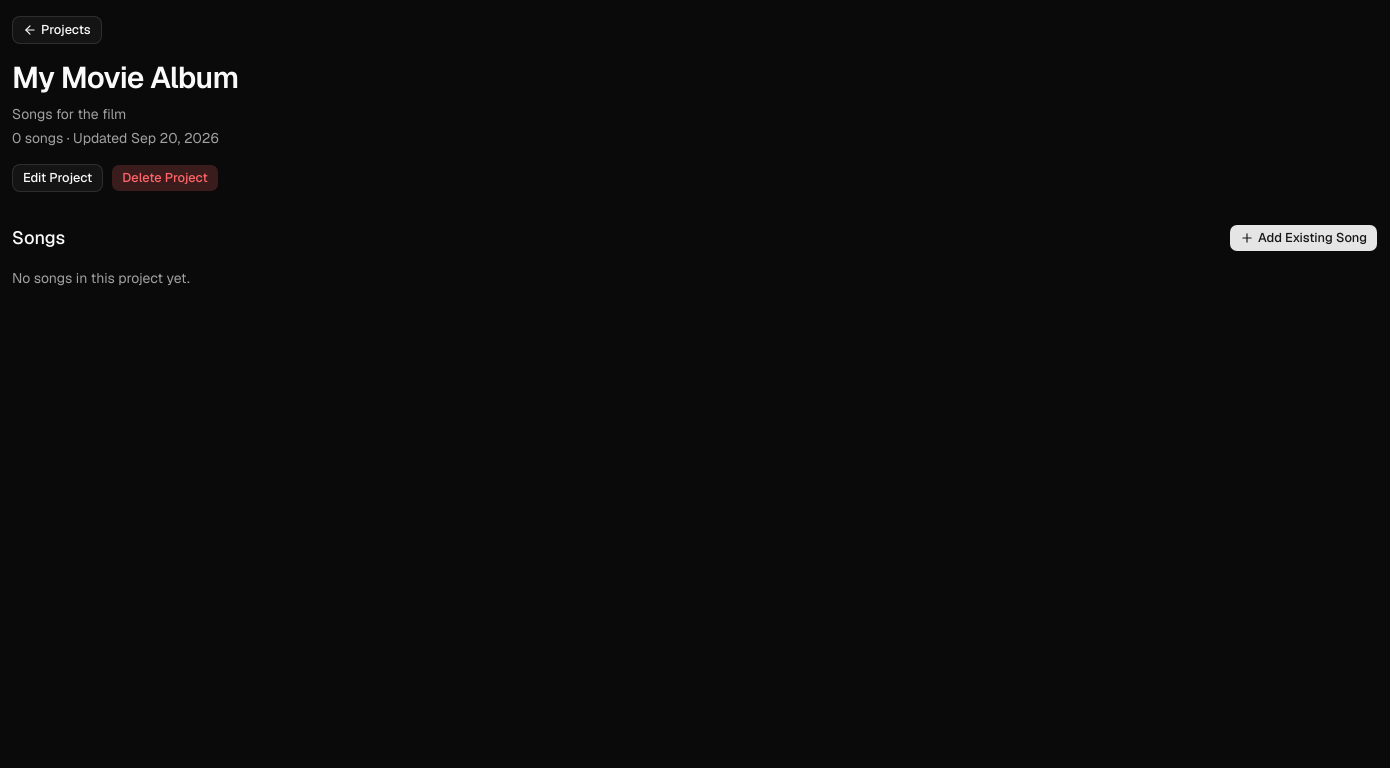
Test case: ProjectDetailsView › Escape and Cancel close the edit form without saving
The image size is (1390, 768).
Expected: the heading "My Movie Album" is shown, [12,58,238,97]
Click the button "Edit Project" at x=58, y=178, box [12,164,103,192]
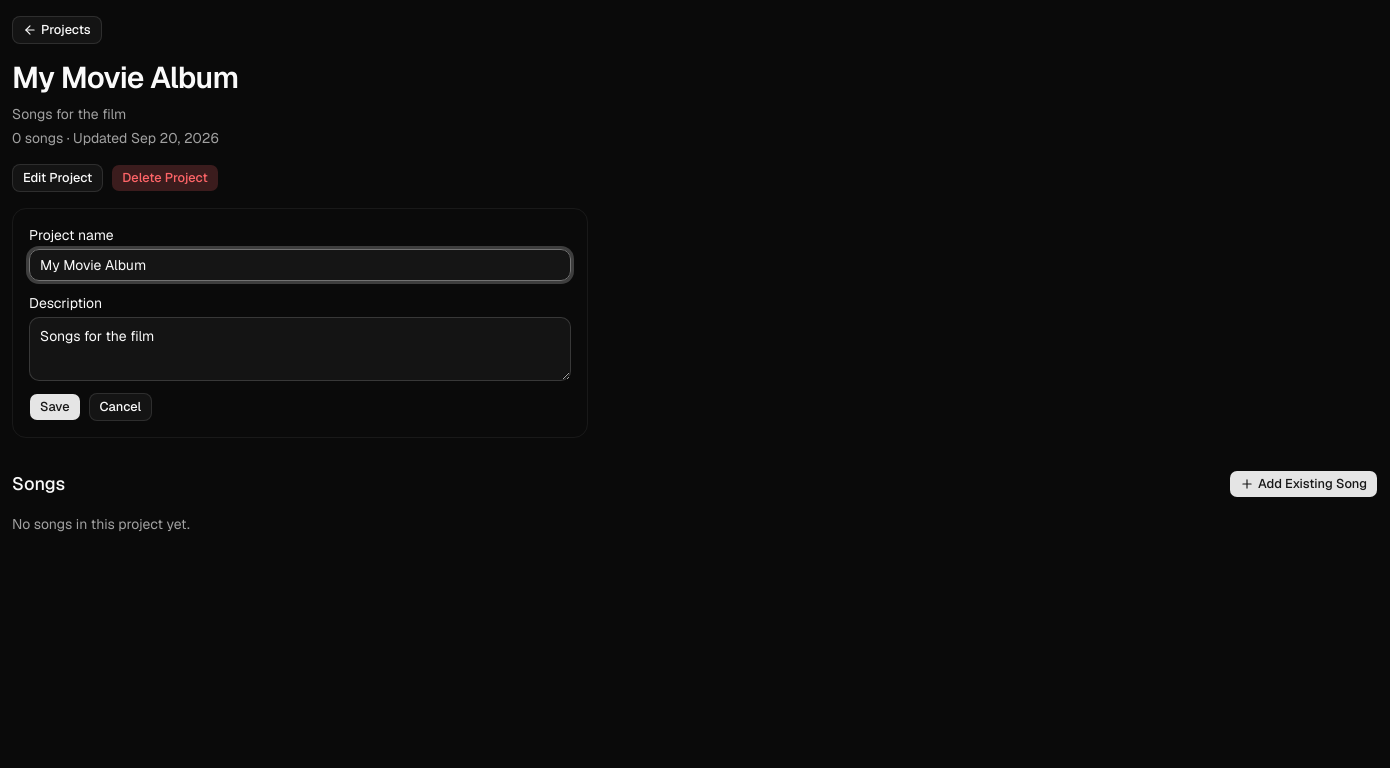
Press Escape
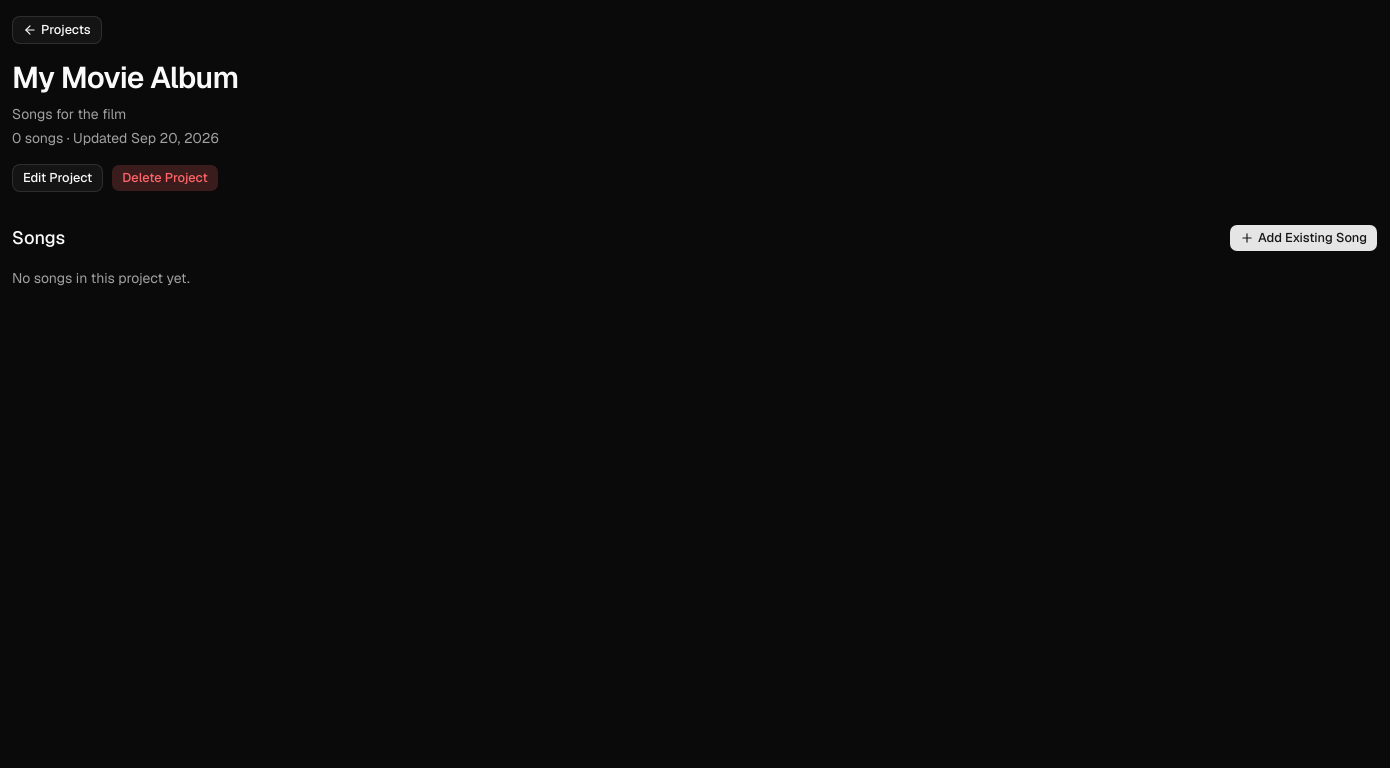
Now the form with test id "edit-project-form" is gone
